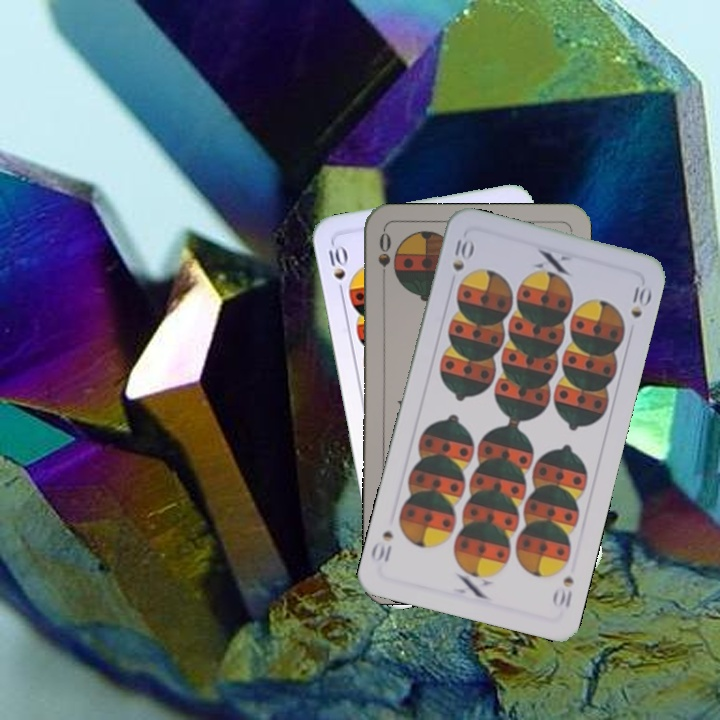S10: (324, 241, 349, 299), (448, 233, 475, 274), (549, 573, 577, 611)
SO: (374, 229, 394, 288)
